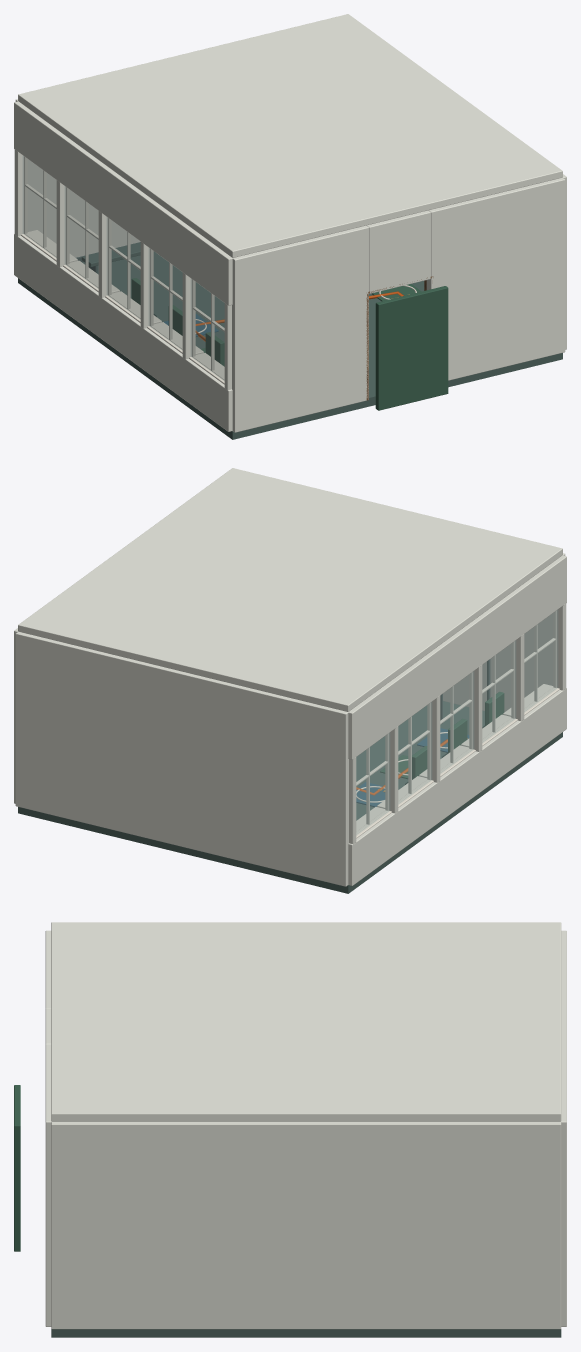
3 views of the same model, one above another, from view 1: azimuth 30°, elevation 25°; view 2: azimuth 150°, elevation 25°; view 3: azimuth 270°, elevation 25° (orthographic). The views are drawn at different scales.
Parts seen in each view (by area): view 1: 3-5__architecture_and_equipment; view 2: 3-5__architecture_and_equipment; view 3: 3-5__architecture_and_equipment.
Boxes of the visible parts, x1=… form: 3-5__architecture_and_equipment: x1=14, y1=14, x2=566, y2=439; 3-5__architecture_and_equipment: x1=14, y1=468, x2=566, y2=893; 3-5__architecture_and_equipment: x1=14, y1=922, x2=566, y2=1337.
Size of the model in its own units: 8.2 by 4.36 by 9.76.
14 materials, 1 textured.
